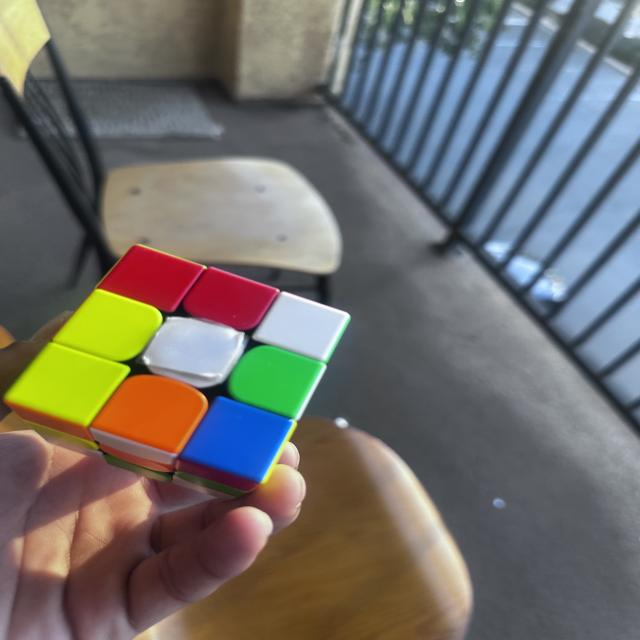sticker: (3, 343, 132, 445), (89, 374, 212, 474), (176, 398, 294, 496), (53, 290, 164, 363), (96, 244, 206, 313), (228, 346, 326, 420), (252, 291, 352, 363), (184, 266, 280, 332), (161, 318, 232, 380), (22, 420, 98, 453), (100, 452, 174, 482)
